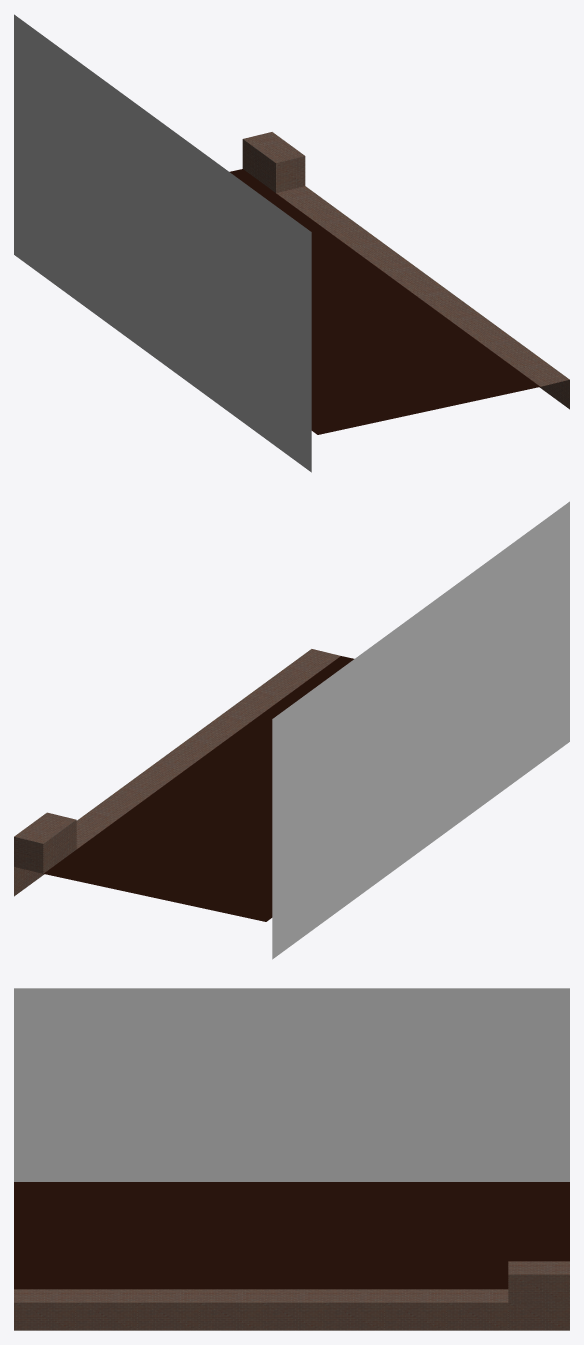
The model's file is LV1_Plat1.fbx.
3 views of the same model, one above another, from view 1: azimuth 30°, elevation 25°; view 2: azimuth 150°, elevation 25°; view 3: azimuth 270°, elevation 25° (orthographic). The views are drawn at different scales.
Visible parts, largest first — view 1: SM_LV1_Plat1; view 2: SM_LV1_Plat1; view 3: SM_LV1_Plat1.
Part boxes in pixels (x1,y1,x2,y2): SM_LV1_Plat1: (14,14,569,472); SM_LV1_Plat1: (14,501,569,959); SM_LV1_Plat1: (14,988,569,1330).
Size of the model in its own units: 902 by 802 by 1800.
